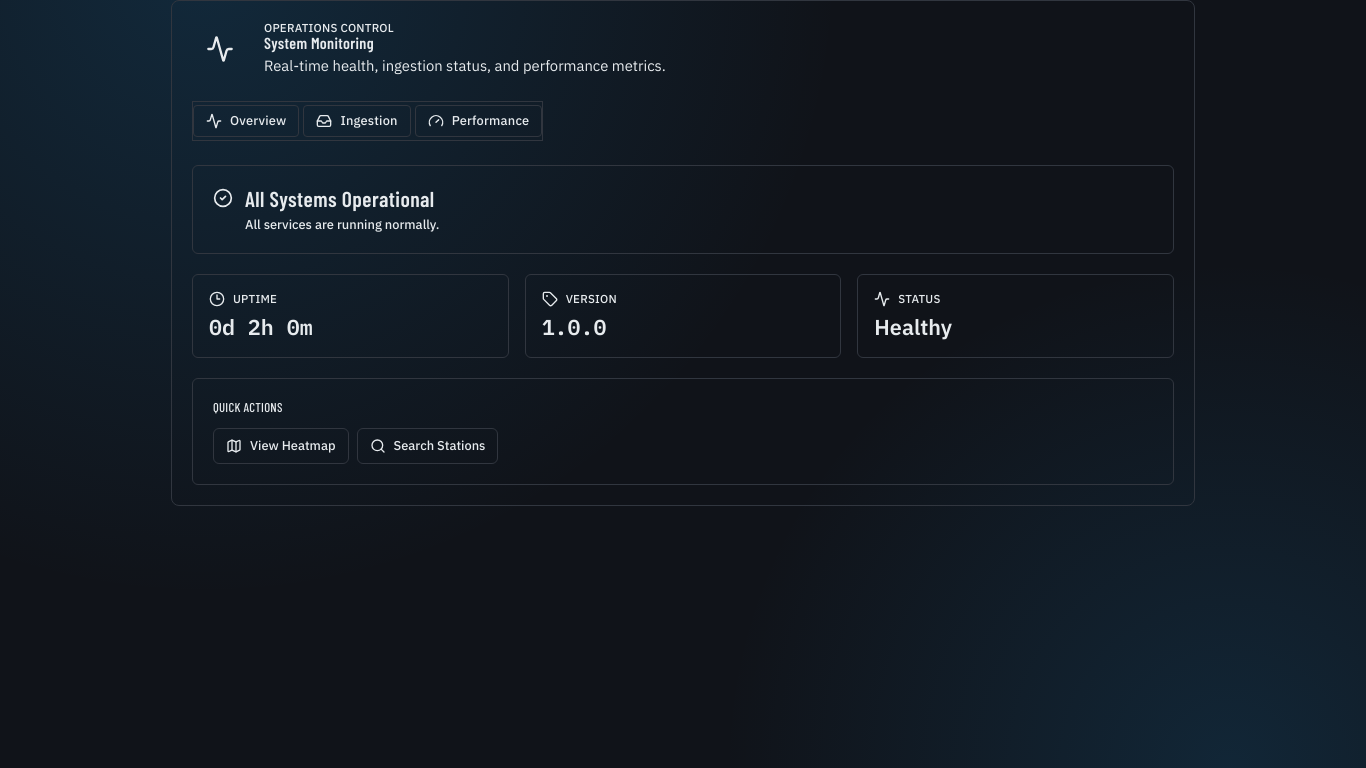
Test case: MonitoringPage › shows running GTFS import progress on Ingestion tab
Click the tab "Ingestion" at (357, 121), box [303,105,411,137]
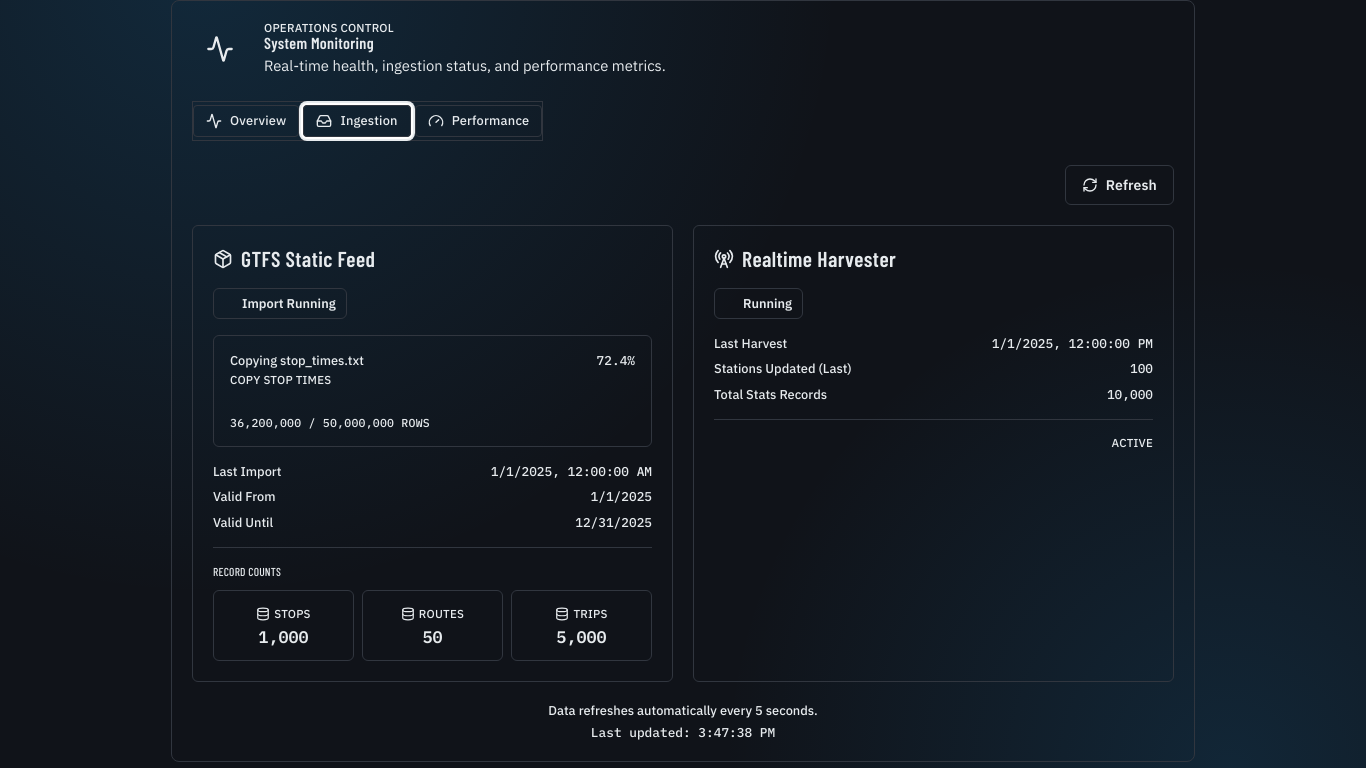
Result: the text "Import Running" is shown at [242,295,336,312]
Result: the text "36,200,000 / 50,000,000 rows" is shown at [230,415,430,430]
